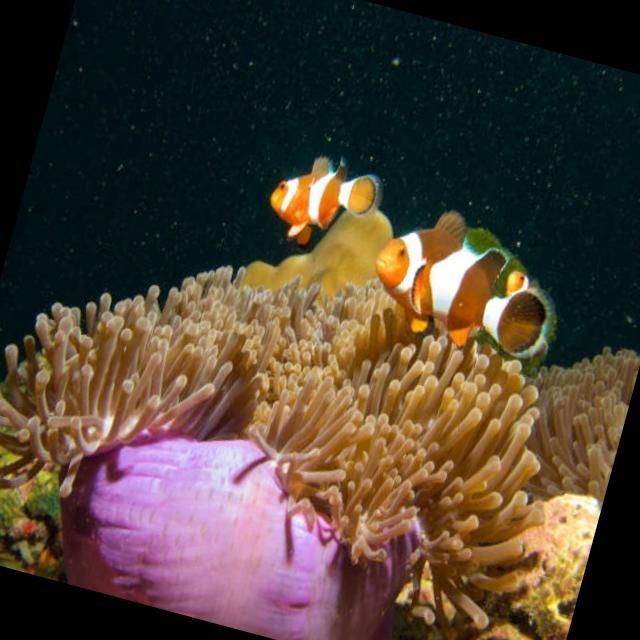ClownFish: (358, 192, 572, 380), (258, 142, 383, 259), (496, 253, 574, 324)
